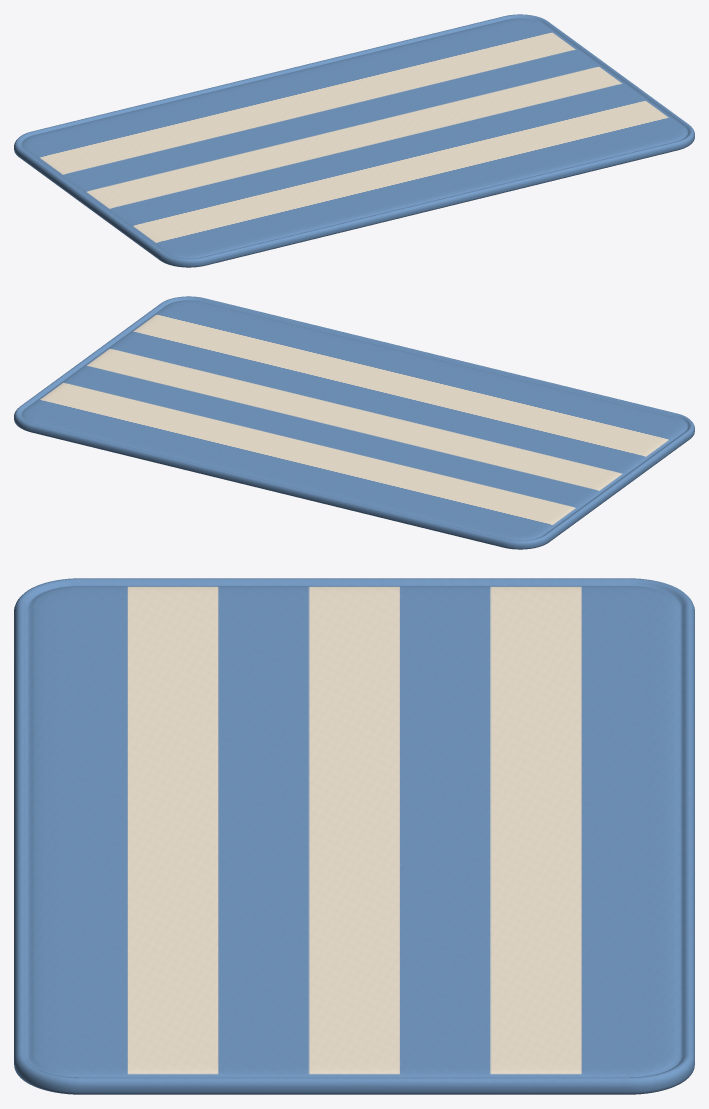
Rendered from floor-mat.glb.
3 views of the same model, one above another, from view 1: azimuth 30°, elevation 25°; view 2: azimuth 150°, elevation 25°; view 3: azimuth 270°, elevation 25° (orthographic). The views are drawn at different scales.
Parts seen in each view (by area): view 1: floor_mat_mesh; view 2: floor_mat_mesh; view 3: floor_mat_mesh.
Boxes of the visible parts, x1=… form: floor_mat_mesh: x1=14, y1=14, x2=694, y2=267; floor_mat_mesh: x1=14, y1=296, x2=694, y2=549; floor_mat_mesh: x1=14, y1=578, x2=694, y2=1094.
Size of the model in its own units: 1.35 by 0.018 by 0.77.
Materials: 1 (1 with a texture image).
